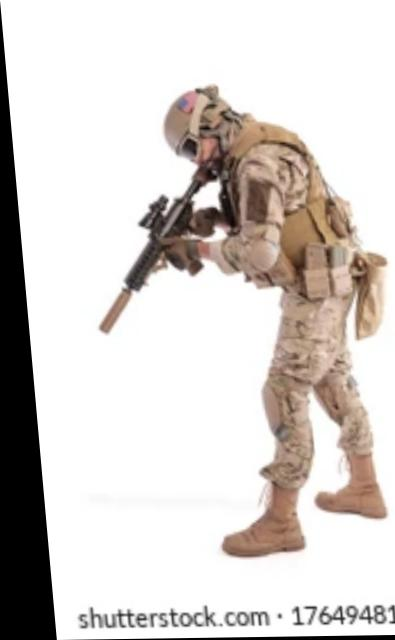other: (150, 84, 394, 562)
